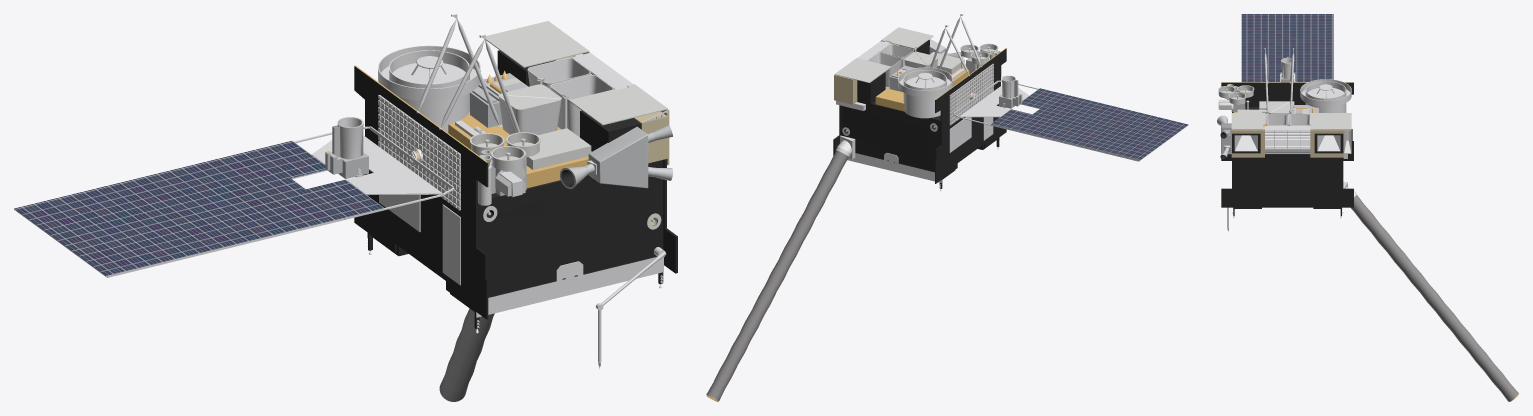
The model's file is goes.glb.
3 views of the same model, side by side, from view 1: azimuth 30°, elevation 25°; view 2: azimuth 150°, elevation 25°; view 3: azimuth 270°, elevation 25° (orthographic). The views are drawn at different scales.
Parts seen in each view (by area): view 1: Layer_0; view 2: Layer_0; view 3: Layer_0.
Part boxes in pixels (x1=…): Layer_0: x1=14, y1=14, x2=677, y2=401; Layer_0: x1=706, y1=14, x2=1188, y2=401; Layer_0: x1=1217, y1=14, x2=1518, y2=401.
Size of the model in its own units: 8 by 7.26 by 6.63.
8 materials, 1 textured.
